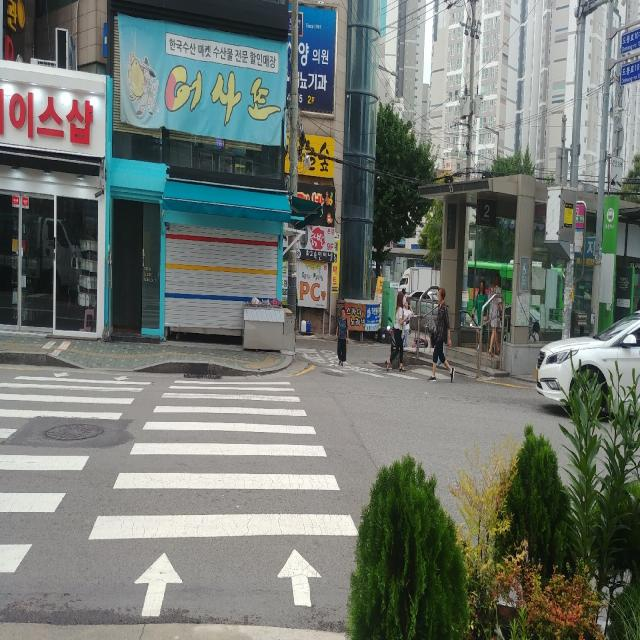횡단보도: (0, 369, 363, 619)
